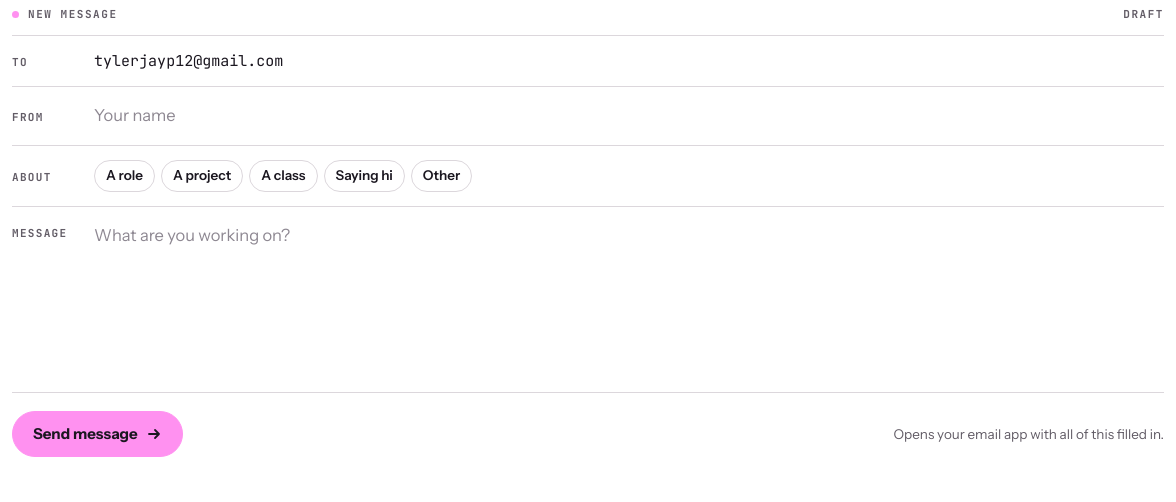
Test case: <MessageForm> › will not send until there is a name and a message
The width and height of the screenshot is (1176, 502).
Click the link "Send message": click(97, 434) [12,411,183,457]
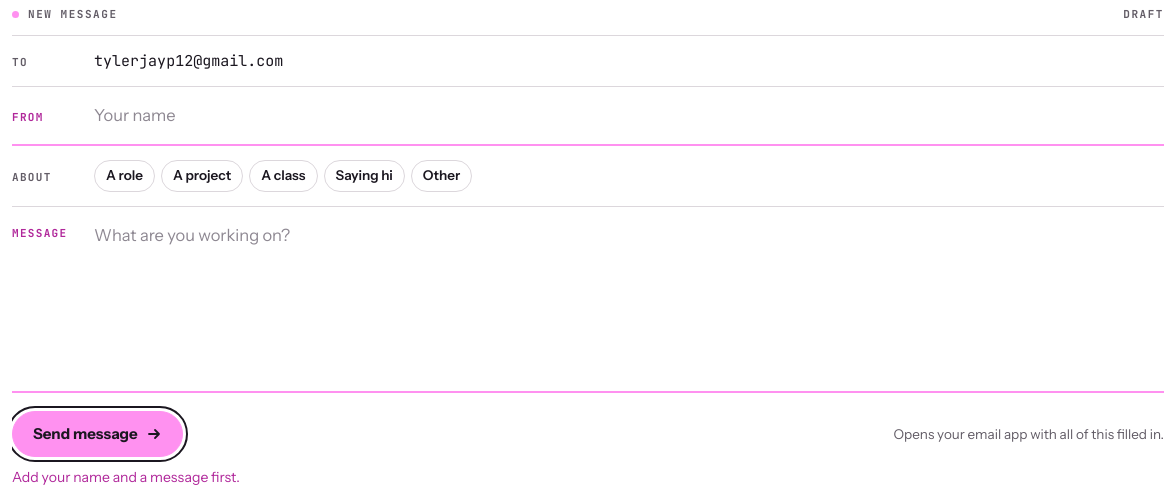
Expected: the message reads "Add your name and a message first.", [12,468,240,486]
